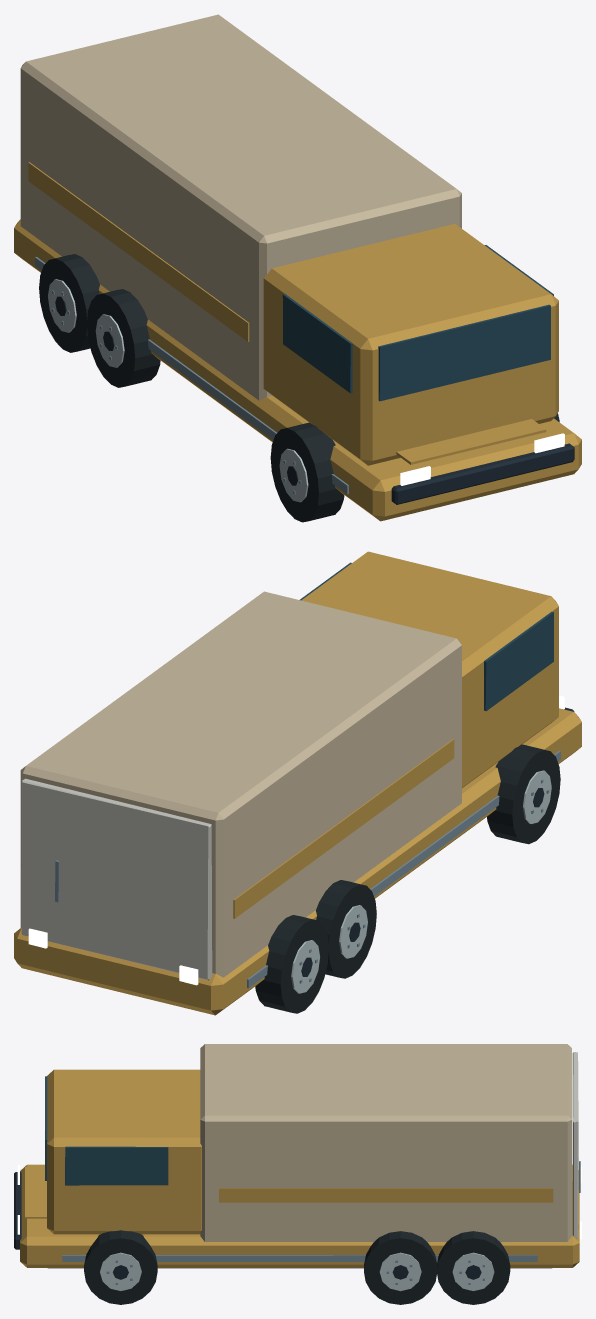
The model's file is road-box-truck.lod1.glb.
The picture shows the model from 3 angles, top to bottom: view 1: azimuth 30°, elevation 25°; view 2: azimuth 150°, elevation 25°; view 3: azimuth 270°, elevation 25°; orthographic projection. The views are drawn at different scales.
Visible parts, largest first — view 1: road-box-truck__body, road-box-truck__wheel_steer_0_l, road-box-truck__wheel_steer_2_l, road-box-truck__wheel_steer_1_l; view 2: road-box-truck__body, road-box-truck__cargo_door, road-box-truck__wheel_steer_0_l, road-box-truck__wheel_steer_1_l, road-box-truck__wheel_steer_2_l; view 3: road-box-truck__body, road-box-truck__wheel_steer_0_r, road-box-truck__wheel_steer_1_r, road-box-truck__wheel_steer_2_r, road-box-truck__cargo_door.
Part boxes in pixels (bbox=[...]): road-box-truck__body: bbox=[14, 14, 581, 521]; road-box-truck__wheel_steer_0_l: bbox=[270, 422, 344, 522]; road-box-truck__wheel_steer_2_l: bbox=[87, 289, 160, 387]; road-box-truck__wheel_steer_1_l: bbox=[39, 254, 99, 352]; road-box-truck__body: bbox=[14, 551, 581, 1015]; road-box-truck__cargo_door: bbox=[21, 778, 212, 980]; road-box-truck__wheel_steer_0_l: bbox=[487, 744, 560, 844]; road-box-truck__wheel_steer_1_l: bbox=[255, 915, 328, 1013]; road-box-truck__wheel_steer_2_l: bbox=[316, 880, 376, 978]; road-box-truck__body: bbox=[14, 1044, 581, 1268]; road-box-truck__wheel_steer_0_r: bbox=[84, 1230, 157, 1304]; road-box-truck__wheel_steer_1_r: bbox=[436, 1231, 510, 1304]; road-box-truck__wheel_steer_2_r: bbox=[364, 1231, 437, 1304]; road-box-truck__cargo_door: bbox=[572, 1052, 580, 1238].
Bounding box in the file's own units: 2.85 × 2.59 × 7.41.
